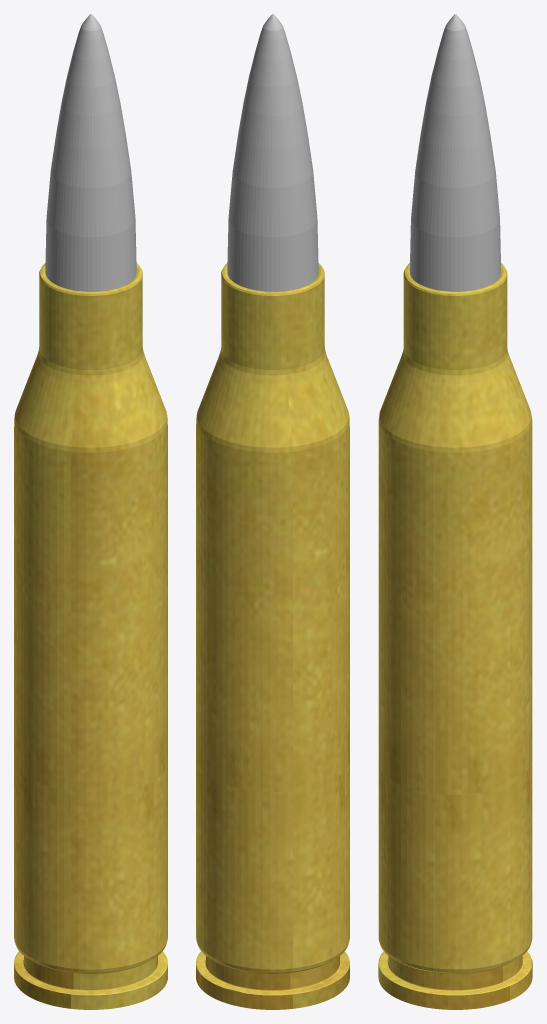
Rendered from Bullet.dae.
3 views of the same model, side by side, from view 1: azimuth 30°, elevation 25°; view 2: azimuth 150°, elevation 25°; view 3: azimuth 270°, elevation 25° (orthographic).
Parts seen in each view (by area): view 1: bottom, tiop; view 2: bottom, tiop; view 3: bottom, tiop.
Boxes of the visible parts, x1,y1,x2,y2 form: bottom: (14,263,167,1009); tiop: (45,14,136,291); bottom: (196,263,349,1009); tiop: (227,14,318,291); bottom: (378,263,532,1009); tiop: (409,14,501,291).
Bounding box in the file's own units: 0.6076 × 4.19 × 0.6076.
